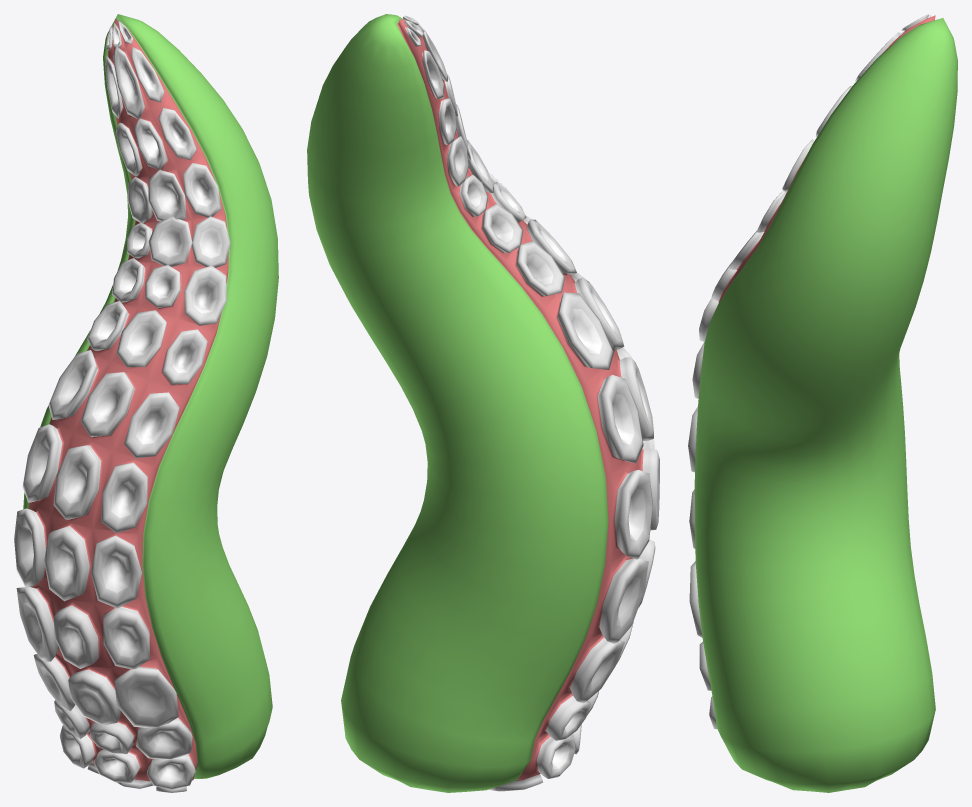
File: Tentacle_Big01.fbx
3 views of the same model, side by side, from view 1: azimuth 30°, elevation 25°; view 2: azimuth 150°, elevation 25°; view 3: azimuth 270°, elevation 25° (orthographic). The views are drawn at different scales.
Parts seen in each view (by area): view 1: TentacleCurve_Big01.001; view 2: TentacleCurve_Big01.001; view 3: TentacleCurve_Big01.001.
Boxes of the visible parts, <box> form: TentacleCurve_Big01.001: <box>14,14,278,792</box>; TentacleCurve_Big01.001: <box>307,14,659,792</box>; TentacleCurve_Big01.001: <box>688,14,957,792</box>.
Size of the model in its own units: 306 by 797 by 255.
